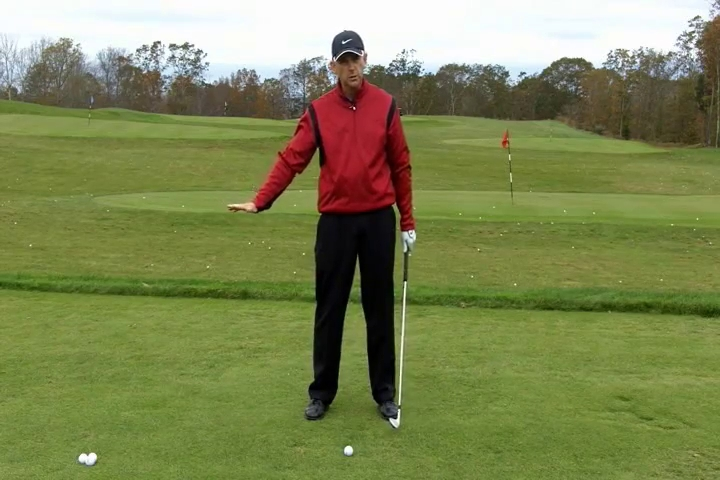person: (227, 30, 417, 429)
